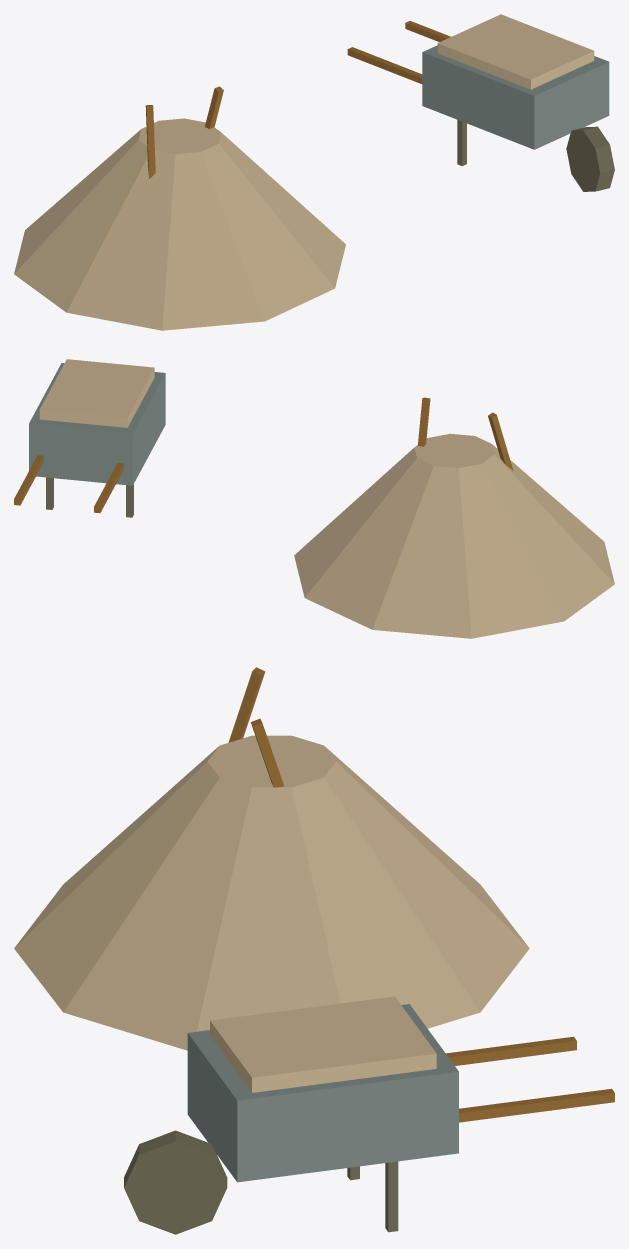
File: SM_ObraHerramientas_v0_8m_LOD0.fbx
The picture shows the model from 3 angles, top to bottom: view 1: azimuth 30°, elevation 25°; view 2: azimuth 150°, elevation 25°; view 3: azimuth 270°, elevation 25°; orthographic projection. The views are drawn at different scales.
Visible parts, largest first — view 1: SM_obra_curso_v10_LOD0; view 2: SM_obra_curso_v10_LOD0; view 3: SM_obra_curso_v10_LOD0.
Part boxes in pixels (x1,y1,x2,y2): SM_obra_curso_v10_LOD0: (14, 14, 614, 330); SM_obra_curso_v10_LOD0: (14, 359, 614, 638); SM_obra_curso_v10_LOD0: (14, 667, 614, 1234).
Bounding box in the file's own units: 3.79 × 1.1 × 2.33.
